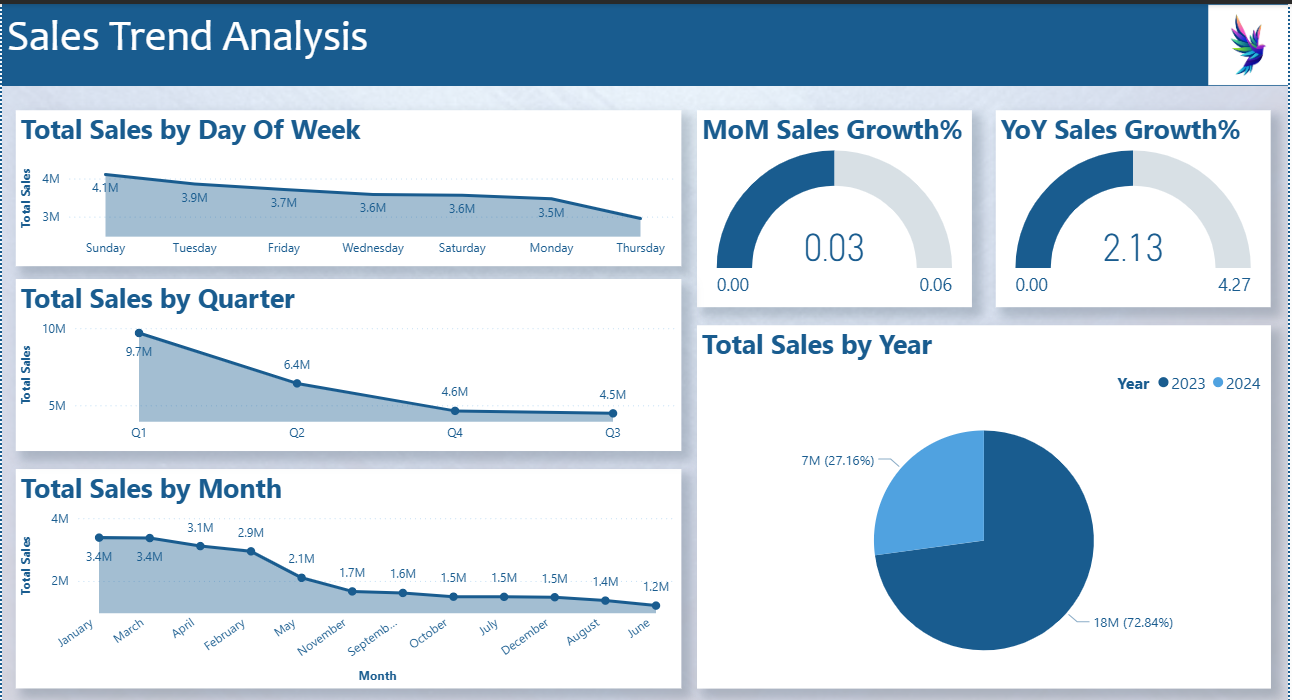

The dashboard page shown, as its layout file describes it:
{"tool":"powerbi","page":{"name":"Sales Trend Analysis","canvas":[1280,720],"ordinal":1},"visuals":[{"type":"textbox","box":[0,0,1280,81.2],"z":0},{"type":"image","box":[1200,0,80,81.2],"z":1000},{"type":"stackedAreaChart","title":"Total Sales by Day Of Week","fields":{"Category":["Dim_Date.DayOfWeek"],"Y":["Fact_SalesTargets.Total Sales"]},"box":[13.8,106.2,662.5,155],"z":2000},{"type":"gauge","fields":{"Y":["Dim_Customer.YoY Sales Growth%"]},"box":[988.8,106.2,273.8,196.2],"z":3000},{"type":"gauge","fields":{"Y":["Dim_Customer.MoM Sales Growth%"]},"box":[691.2,106.2,273.8,196.2],"z":4000},{"type":"lineChart","fields":{"Category":["Dim_Date.Month"],"Y":["Fact_SalesTargets.Total Sales"]},"box":[13.8,462.5,662.5,218.8],"z":5000},{"type":"lineChart","fields":{"Category":["Dim_Date.Quarter"],"Y":["Fact_SalesTargets.Total Sales"]},"box":[13.8,273.8,662.5,171.2],"z":6000},{"type":"pieChart","fields":{"Category":["Dim_Date.Year"],"Y":["Fact_SalesTargets.Total Sales"]},"box":[691.4,320,571.4,361.4],"z":8000}]}

Visuals, with their boxes on the page's 1280x720 design canvas (x1, y1, x2, y2). These are canvas units, not pixel positions in the 1292x700 screenshot, which may show the page scaled, cropped or inside an application window:
textbox: locate(0, 0, 1280, 81)
image: locate(1200, 0, 1280, 81)
"Total Sales by Day Of Week" stackedAreaChart: locate(14, 106, 676, 261)
gauge - Dim_Customer.YoY Sales Growth%: locate(989, 106, 1263, 302)
gauge - Dim_Customer.MoM Sales Growth%: locate(691, 106, 965, 302)
lineChart - Dim_Date.Month x Fact_SalesTargets.Total Sales: locate(14, 462, 676, 681)
lineChart - Dim_Date.Quarter x Fact_SalesTargets.Total Sales: locate(14, 274, 676, 445)
pieChart - Dim_Date.Year x Fact_SalesTargets.Total Sales: locate(691, 320, 1263, 681)
